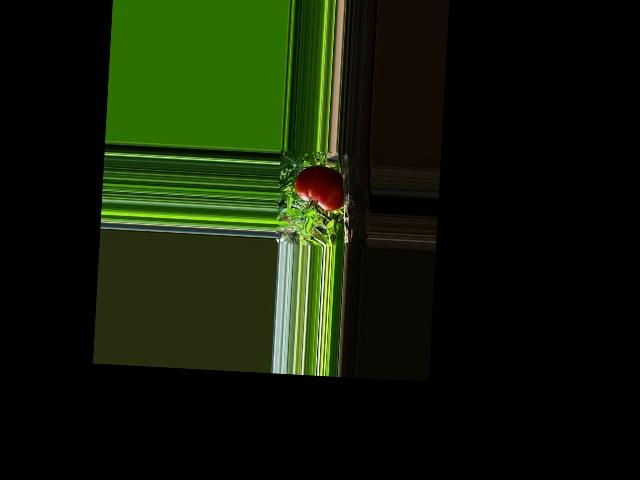tomato: (293, 165, 345, 211)
